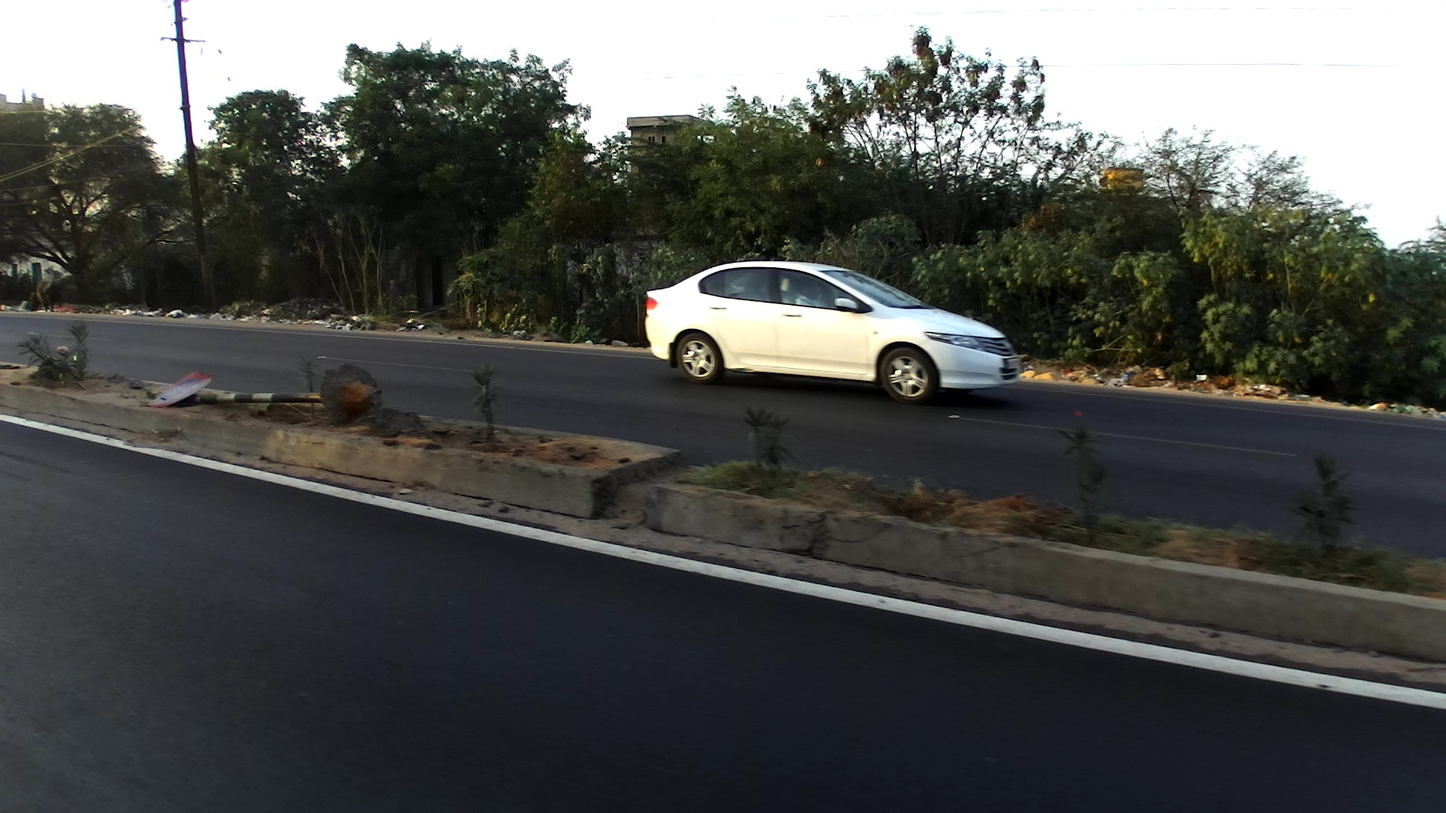animal: (26, 277, 59, 312)
car: (642, 258, 1021, 403)
